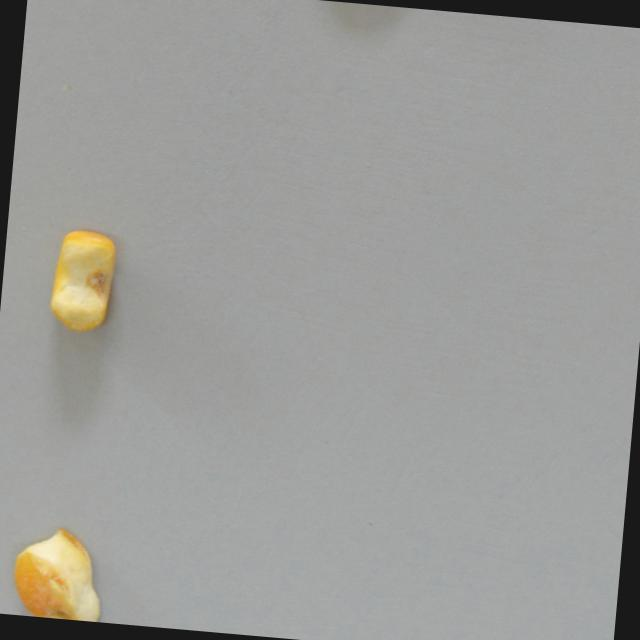dañado: (21, 220, 139, 342), (0, 528, 112, 622)
